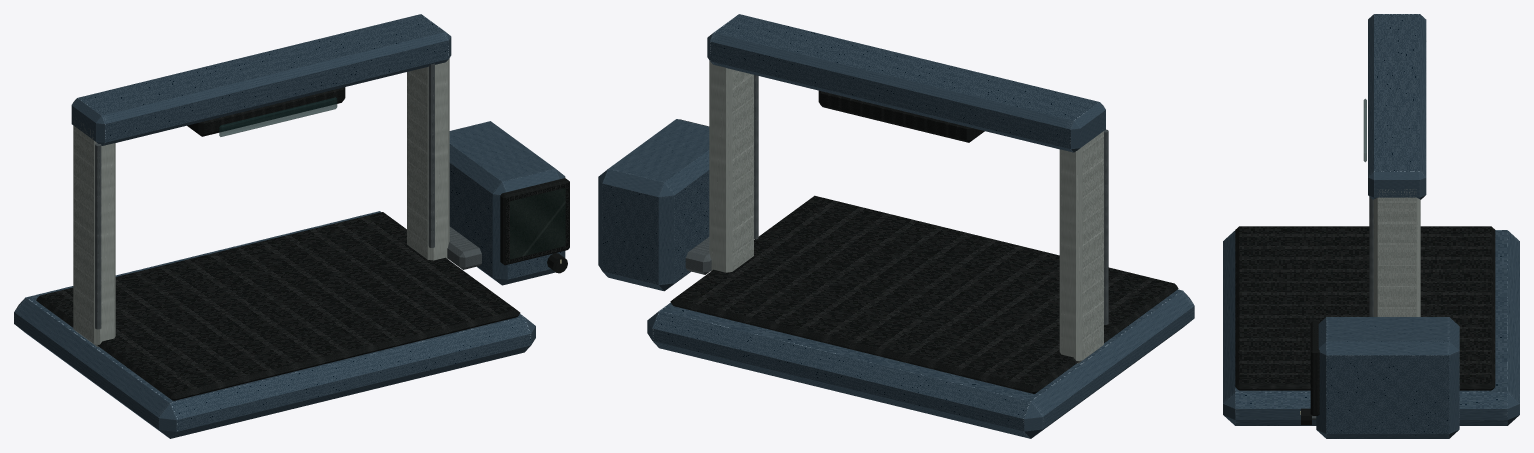
The model's file is blender_object_imprint_scanner_3.glb.
3 views of the same model, side by side, from view 1: azimuth 30°, elevation 25°; view 2: azimuth 150°, elevation 25°; view 3: azimuth 270°, elevation 25° (orthographic). The views are drawn at different scales.
Visible parts, largest first — view 1: blender_object_imprint_scanner_3; view 2: blender_object_imprint_scanner_3; view 3: blender_object_imprint_scanner_3.
Boxes of the visible parts, x1,y1,x2,y2 form: blender_object_imprint_scanner_3: (14,14,569,438); blender_object_imprint_scanner_3: (598,14,1194,438); blender_object_imprint_scanner_3: (1223,14,1519,438).
Size of the model in its own units: 0.4825 by 0.2745 by 0.29.
7 materials, 7 textured.
